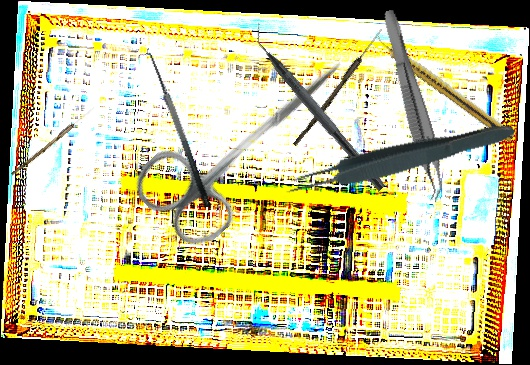Chopper: (243, 20, 397, 192)
Handpiece: (372, 32, 518, 143)
Iris Scissors: (125, 22, 372, 258)
Spatula Surgical: (137, 49, 212, 213)
Surgical Spoon: (293, 26, 384, 149), (10, 105, 96, 178)
Tissue Forceps: (280, 114, 519, 202), (371, 8, 453, 202)
